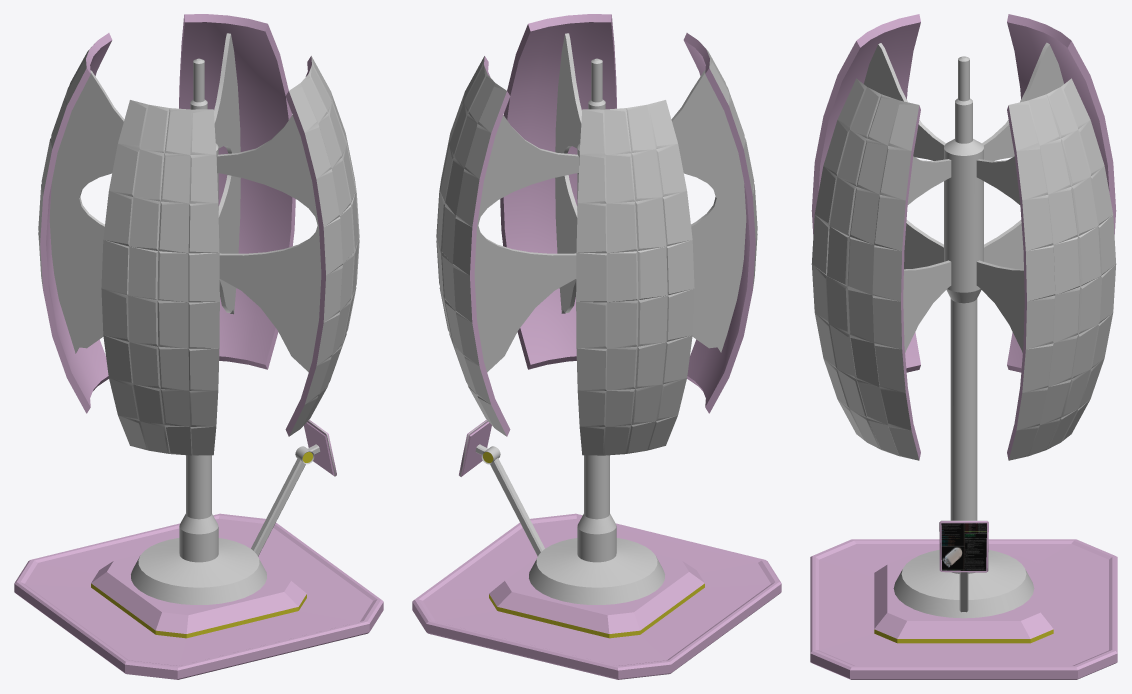
The model's file is AreaBeacon.fbx.
3 renders of one model, left to right at view 1: azimuth 30°, elevation 25°; view 2: azimuth 150°, elevation 25°; view 3: azimuth 270°, elevation 25°, orthographic. The views are drawn at different scales.
Parts seen in each view (by area): view 1: Arrays, Base, ArraySupport, Post, Cube, Consoles1_section_1; view 2: Arrays, Base, ArraySupport, Post, Cube, Consoles1_section_1; view 3: Arrays, Base, Post, ArraySupport, Consoles1_section_1.
Boxes of the visible parts, x1,y1,x2,y2 form: Arrays: (38, 14, 359, 455); Base: (14, 513, 383, 679); ArraySupport: (49, 33, 321, 372); Post: (131, 58, 266, 604); Cube: (251, 458, 305, 556); Consoles1_section_1: (304, 419, 336, 476); Arrays: (436, 14, 757, 455); Base: (412, 513, 781, 679); ArraySupport: (474, 33, 746, 372); Post: (529, 58, 664, 604); Cube: (490, 458, 544, 556); Consoles1_section_1: (459, 419, 491, 476); Arrays: (811, 14, 1116, 460); Base: (810, 539, 1117, 679); Post: (893, 56, 1034, 618); ArraySupport: (864, 42, 1063, 353); Consoles1_section_1: (939, 520, 988, 572).
Size of the model in its own units: 250 by 500 by 250.
